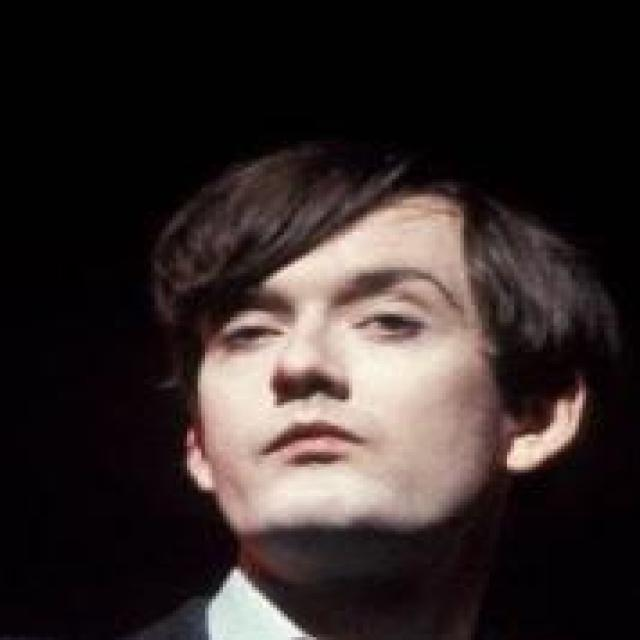bareface: (210, 158, 488, 540)
